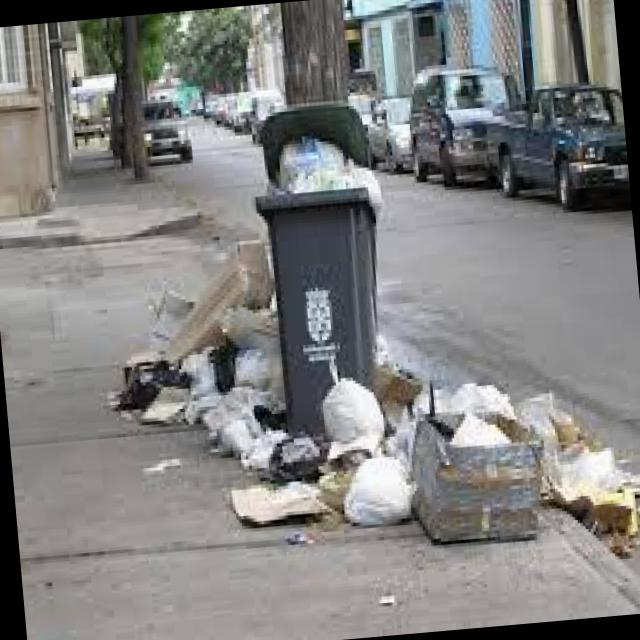garbage: (105, 220, 614, 573), (244, 102, 418, 220)
